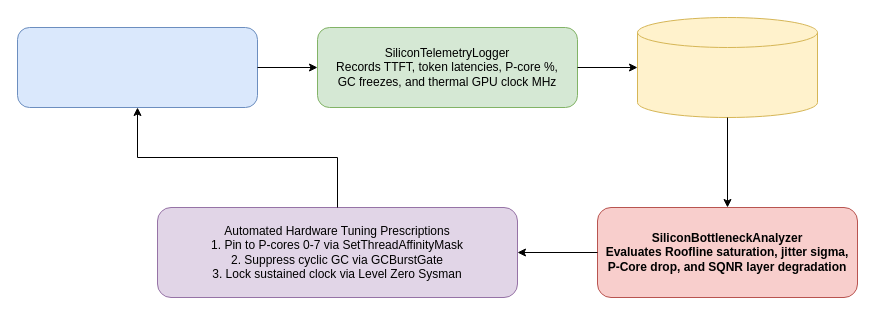
This 875x315 diagram has some shape labels left out. The box of each missing label's shape, as (x1, y1, x2, y2) in pixels:
Active Model Inference Run (SerialWorker & OpenVINO GenAI): (16, 26, 258, 108)
Persistent Telemetry Reports benchmarks/reports/*.json & *.md: (636, 16, 818, 118)
